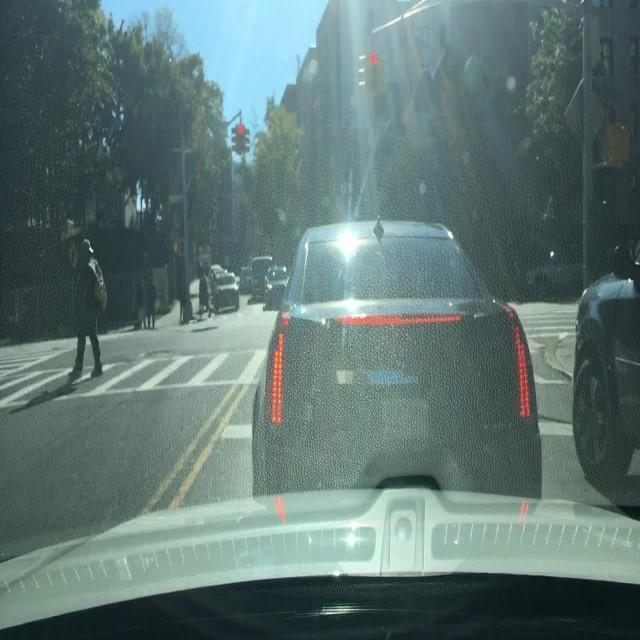normal: (232, 200, 550, 506)
